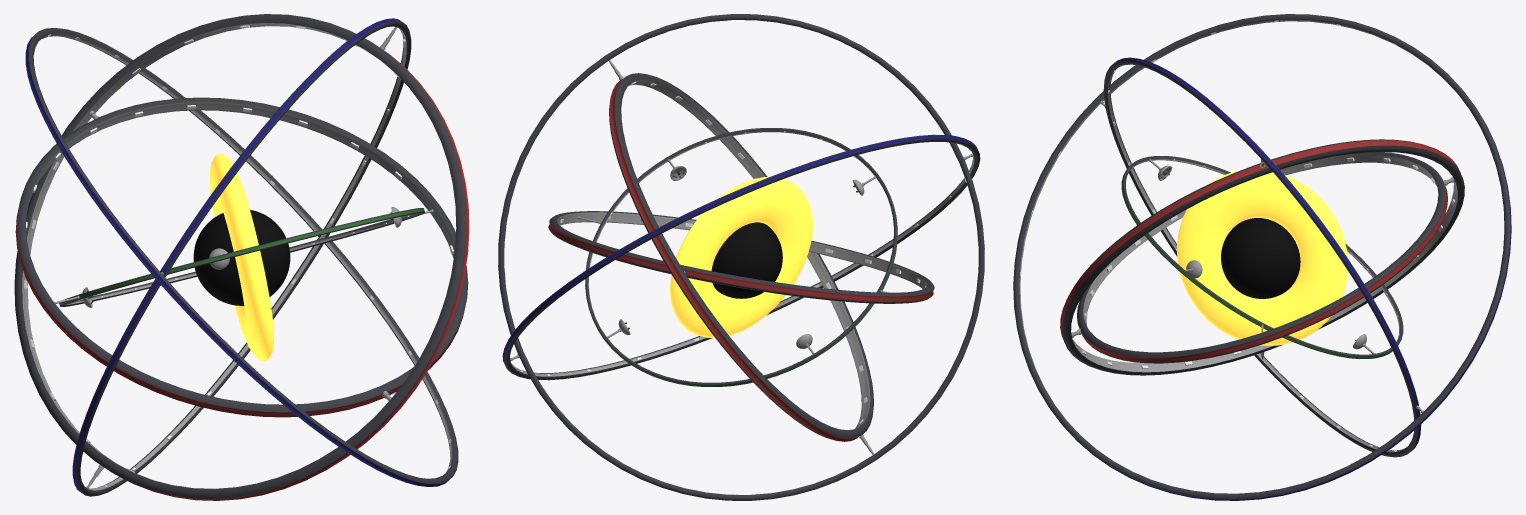
3 renders of one model, left to right at view 1: azimuth 30°, elevation 25°; view 2: azimuth 150°, elevation 25°; view 3: azimuth 270°, elevation 25°, orthographic. The views are drawn at different scales.
Parts seen in each view (by area): view 1: Circle3, Circle2, pTorus7, Circle4, pTorus2, pSphere1, Cricle1; view 2: pTorus2, Circle3, Circle4, Circle2, pTorus7, Cricle1, pSphere1; view 3: pTorus2, pTorus7, Circle3, Circle2, Circle4, pSphere1, Cricle1.
Part boxes in pixels (<box>): Circle3: <box>14,14,469,500</box>; Circle2: <box>15,97,468,417</box>; pTorus7: <box>25,28,458,486</box>; Circle4: <box>72,18,411,496</box>; pTorus2: <box>210,153,273,361</box>; pSphere1: <box>193,210,290,305</box>; Cricle1: <box>59,208,424,306</box>; pTorus2: <box>669,177,813,337</box>; Circle3: <box>609,73,873,441</box>; Circle4: <box>498,14,984,500</box>; Circle2: <box>548,211,934,303</box>; pTorus7: <box>502,134,980,380</box>; Cricle1: <box>585,128,897,386</box>; pSphere1: <box>711,222,782,298</box>; pTorus2: <box>1176,170,1347,345</box>; pTorus7: <box>1013,14,1511,500</box>; Circle3: <box>1060,139,1464,375</box>; Circle2: <box>1077,152,1447,363</box>; Circle4: <box>1103,57,1421,457</box>; pSphere1: <box>1221,218,1300,298</box>; Cricle1: <box>1121,156,1403,358</box>.
Bounding box in the file's own units: 15.3 × 17.82 × 15.99.
